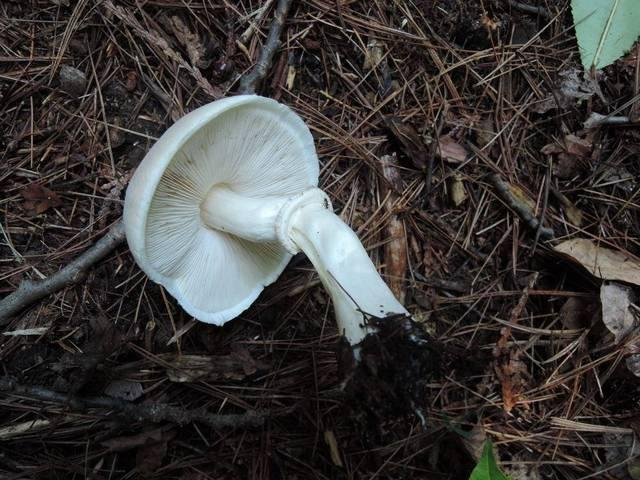Non-edible Mushroom: (120, 92, 431, 364)
